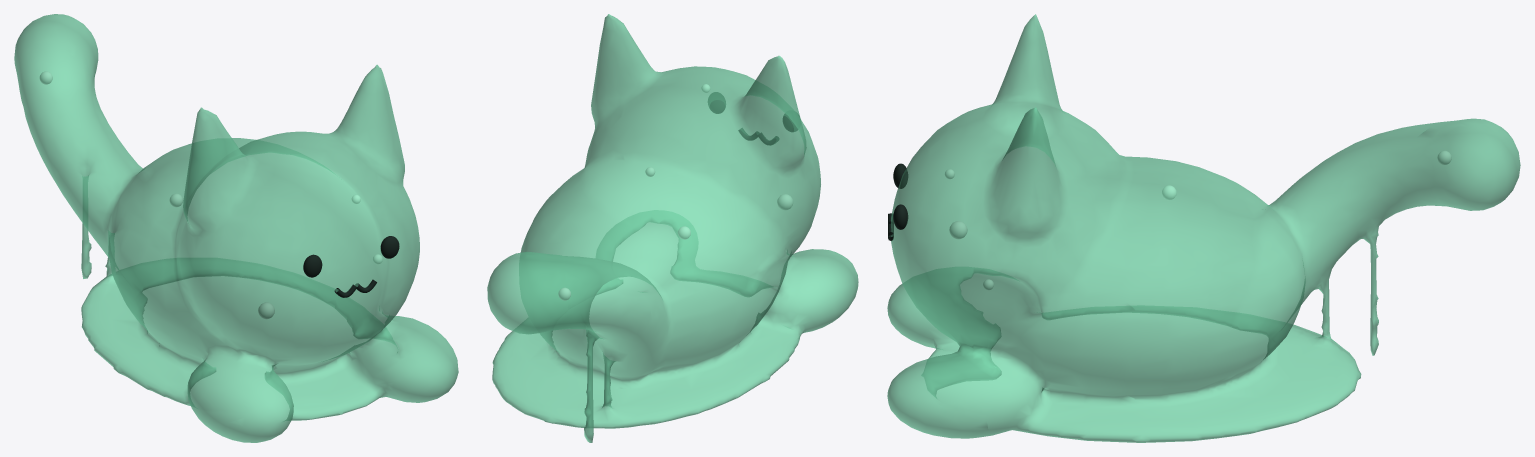
Rendered from slime-cat.glb.
3 renders of one model, left to right at view 1: azimuth 30°, elevation 25°; view 2: azimuth 150°, elevation 25°; view 3: azimuth 270°, elevation 25°, orthographic. The views are drawn at different scales.
Parts seen in each view (by area): view 1: SlimeBody; view 2: SlimeBody; view 3: SlimeBody.
Boxes of the visible parts, <box> form: SlimeBody: <box>14,14,458,442</box>; SlimeBody: <box>487,14,858,442</box>; SlimeBody: <box>887,14,1520,442</box>.
Size of the model in its own units: 1.45 by 1.7 by 2.94.
